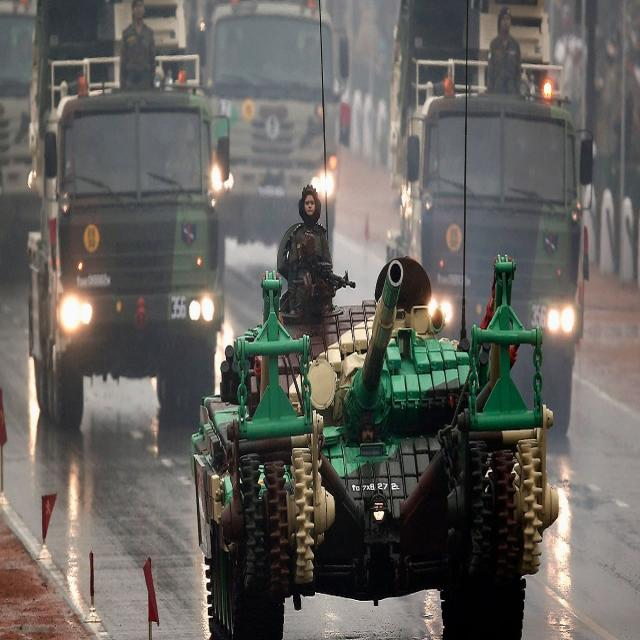truck: (190, 258, 559, 638), (388, 0, 594, 433), (29, 91, 224, 428), (208, 2, 322, 241), (322, 16, 339, 174)
